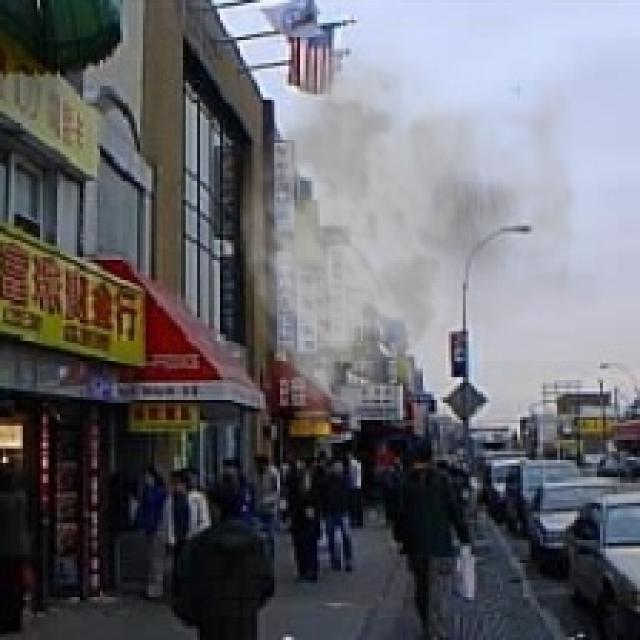smoke: (237, 12, 609, 434)
